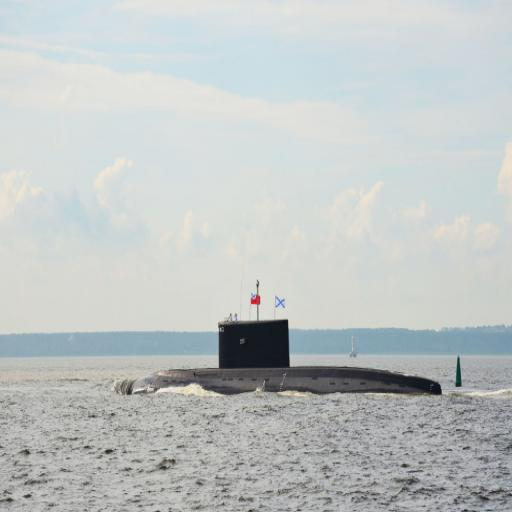submarine: (115, 280, 458, 396)
